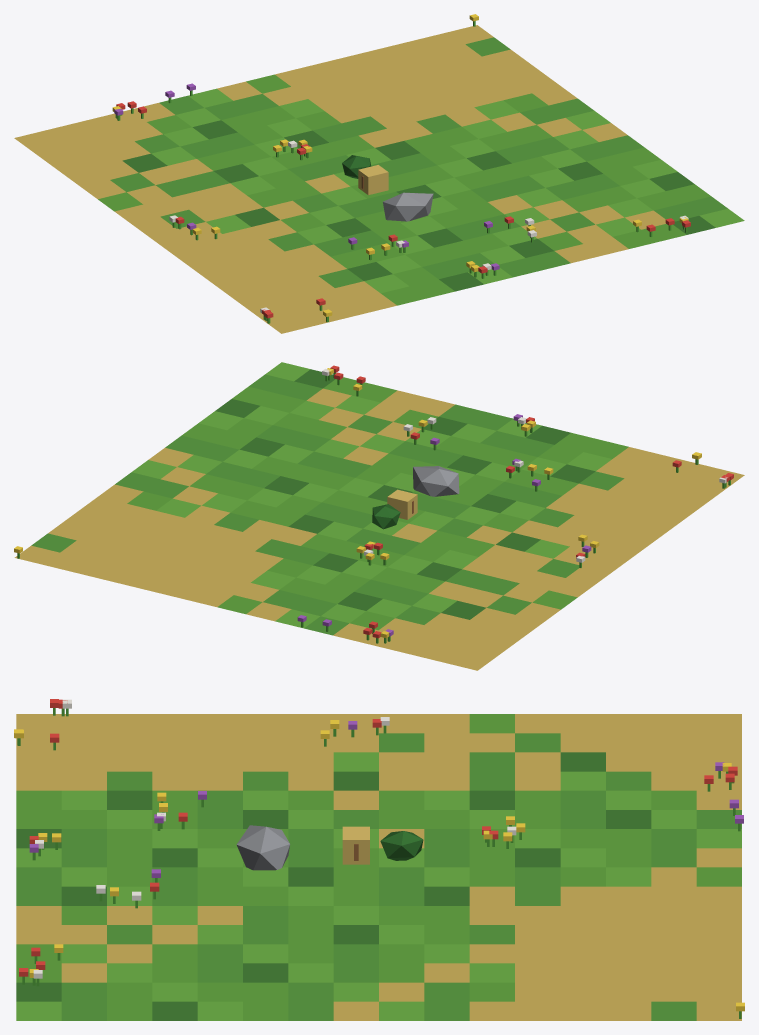
Rendered from chunk_9_13.glb.
3 views of the same model, one above another, from view 1: azimuth 30°, elevation 25°; view 2: azimuth 150°, elevation 25°; view 3: azimuth 270°, elevation 25° (orthographic). The views are drawn at different scales.
Parts seen in each view (by area): view 1: chunk_9_13; view 2: chunk_9_13; view 3: chunk_9_13.
Boxes of the visible parts, bbox=[...] form: chunk_9_13: bbox=[14, 14, 744, 333]; chunk_9_13: bbox=[14, 362, 744, 670]; chunk_9_13: bbox=[14, 699, 744, 1020].
Size of the model in its own units: 16.05 by 1.2 by 16.12.
